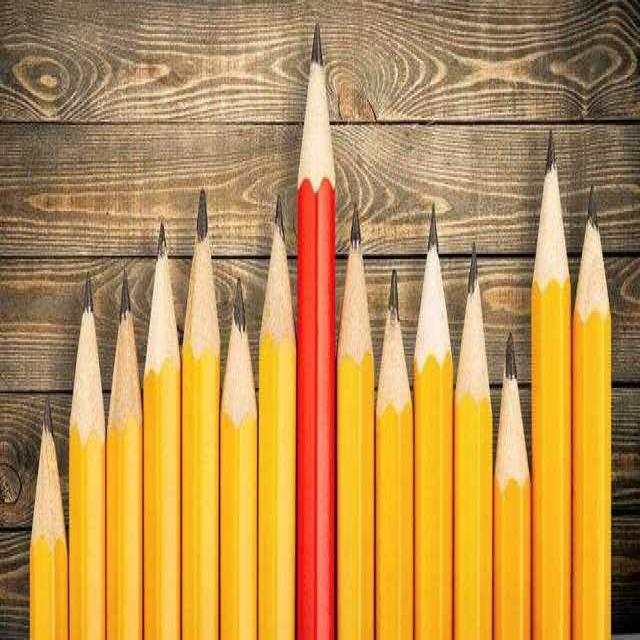pencil: (298, 1, 338, 640), (532, 110, 572, 640), (412, 179, 454, 640), (181, 167, 220, 640), (257, 169, 296, 640), (574, 169, 611, 640), (338, 186, 375, 640), (142, 216, 180, 640), (375, 244, 414, 640), (105, 223, 142, 640), (22, 335, 72, 638), (455, 231, 492, 640), (70, 225, 106, 640), (221, 238, 257, 640), (493, 313, 531, 640)
